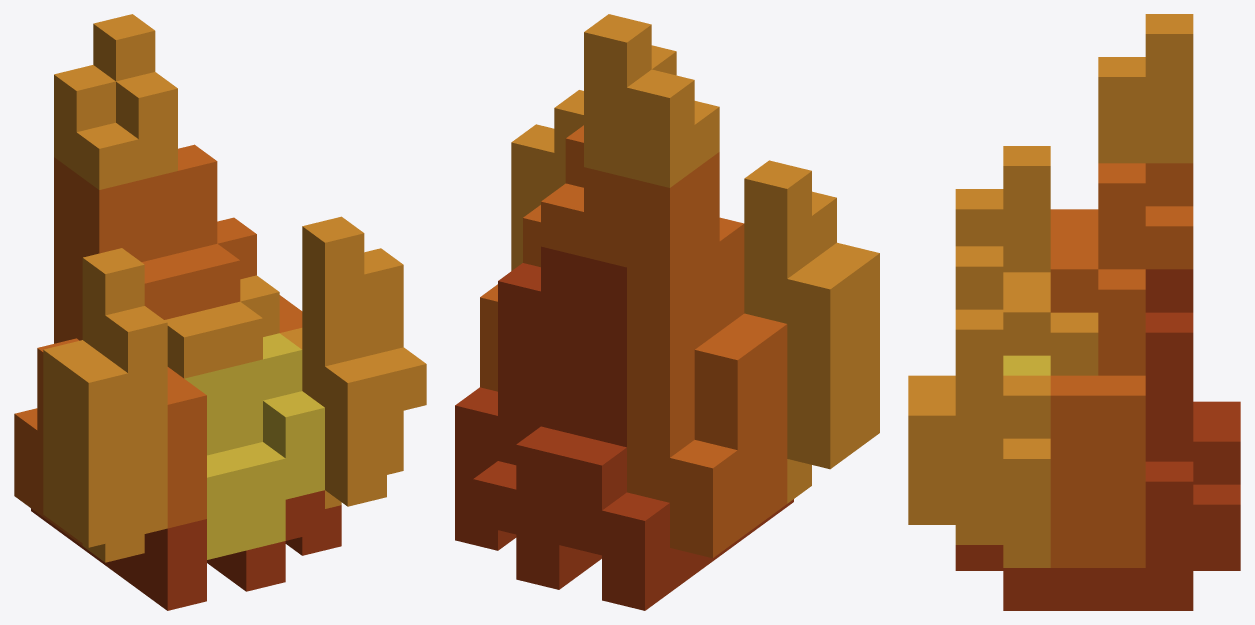
The model's file is flame_02.glb.
3 renders of one model, left to right at view 1: azimuth 30°, elevation 25°; view 2: azimuth 150°, elevation 25°; view 3: azimuth 270°, elevation 25°, orthographic. The views are drawn at different scales.
Parts seen in each view (by area): view 1: flame_02; view 2: flame_02; view 3: flame_02.
Part boxes in pixels (left/top/right/bottom): flame_02: left=14, top=14, right=426, bottom=610; flame_02: left=455, top=14, right=879, bottom=610; flame_02: left=908, top=14, right=1240, bottom=610.
Bounding box in the file's own units: 1 × 1.5 × 0.875.
